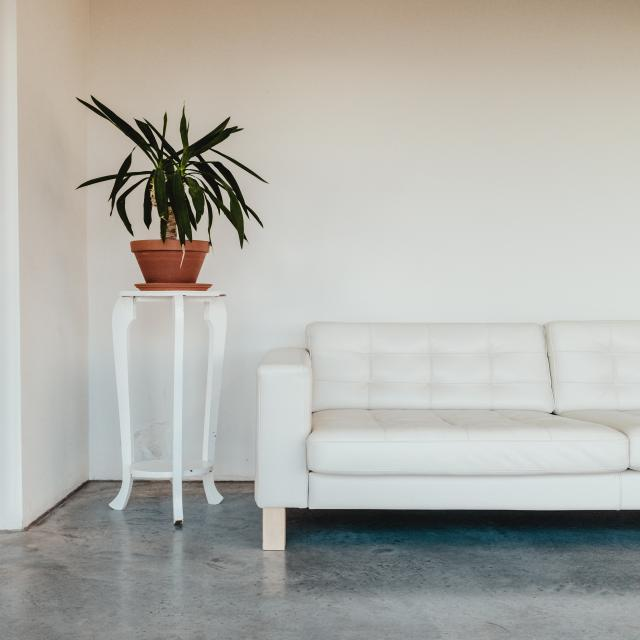floor: (0, 480, 640, 640)
